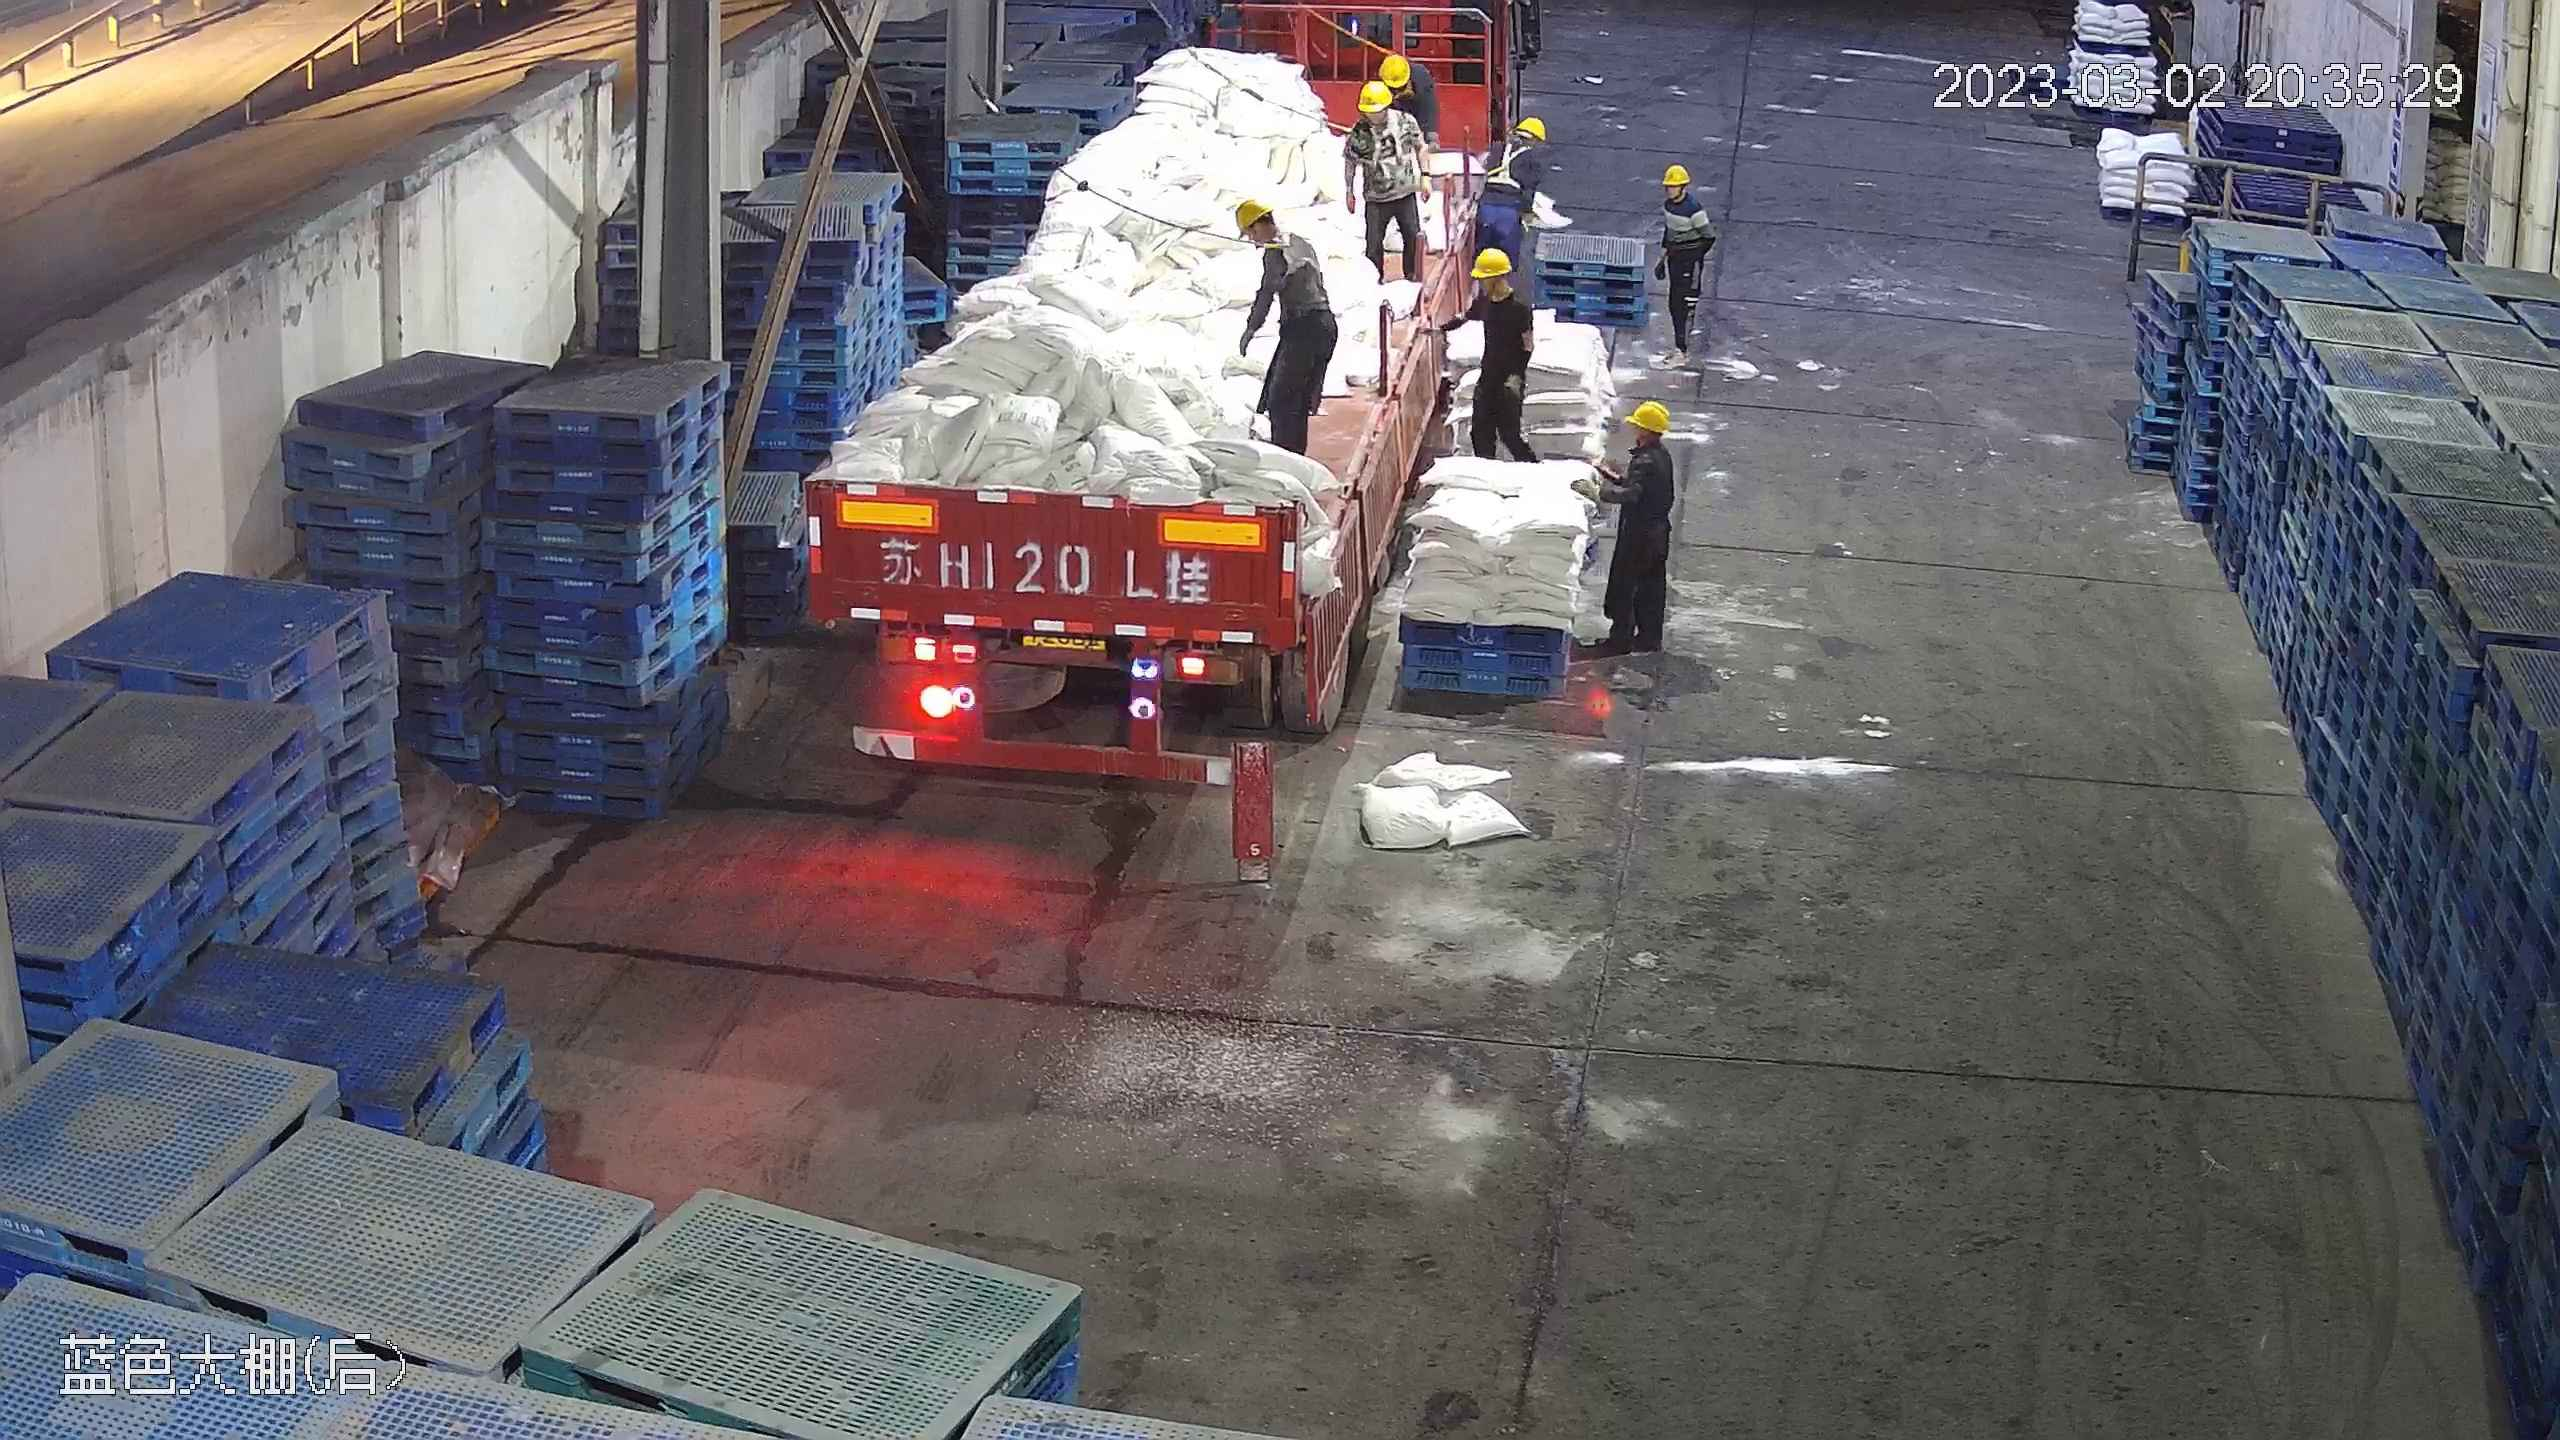belt: (1268, 229, 1330, 289), (1364, 117, 1418, 180), (1482, 134, 1535, 189), (1393, 79, 1415, 99), (1375, 44, 1402, 59)
head: (1234, 199, 1318, 271), (1607, 400, 1674, 488), (1467, 247, 1532, 325), (1347, 73, 1415, 137), (1656, 163, 1712, 223), (1489, 116, 1551, 168), (1378, 51, 1432, 106)
helmet: (1232, 197, 1275, 235), (1627, 400, 1673, 433), (1355, 79, 1396, 116), (1378, 51, 1414, 89), (1473, 247, 1512, 279), (1516, 114, 1548, 141), (1660, 161, 1691, 184)
people: (1229, 198, 1341, 453), (1591, 399, 1677, 652), (1451, 243, 1535, 465), (1345, 77, 1429, 296), (1650, 158, 1719, 371), (1470, 112, 1548, 263)
truck: (789, 8, 1463, 777)
